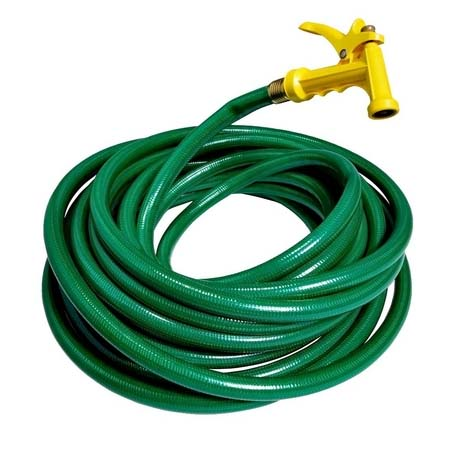Nonrec_Tangler: (15, 6, 434, 427)
